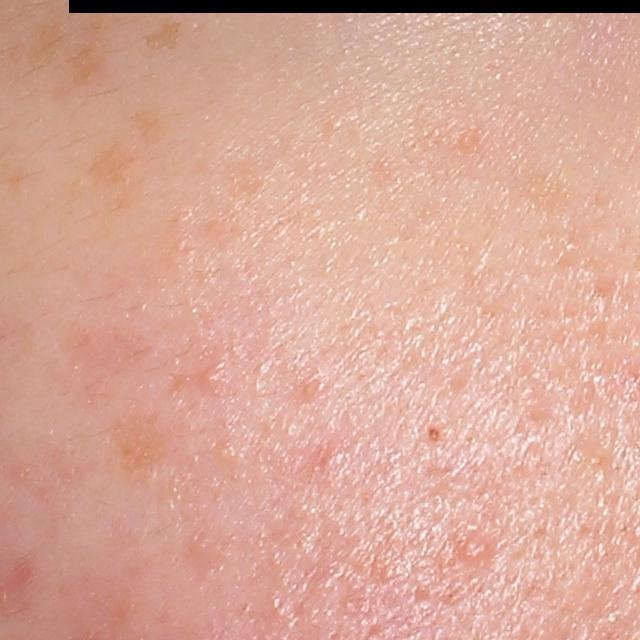comedo: (455, 129, 481, 153), (201, 367, 226, 386), (215, 442, 239, 460), (424, 424, 442, 443)
melasma: (24, 18, 113, 89), (89, 138, 143, 219), (137, 15, 186, 57), (132, 105, 166, 154)
papule: (456, 534, 492, 566)
